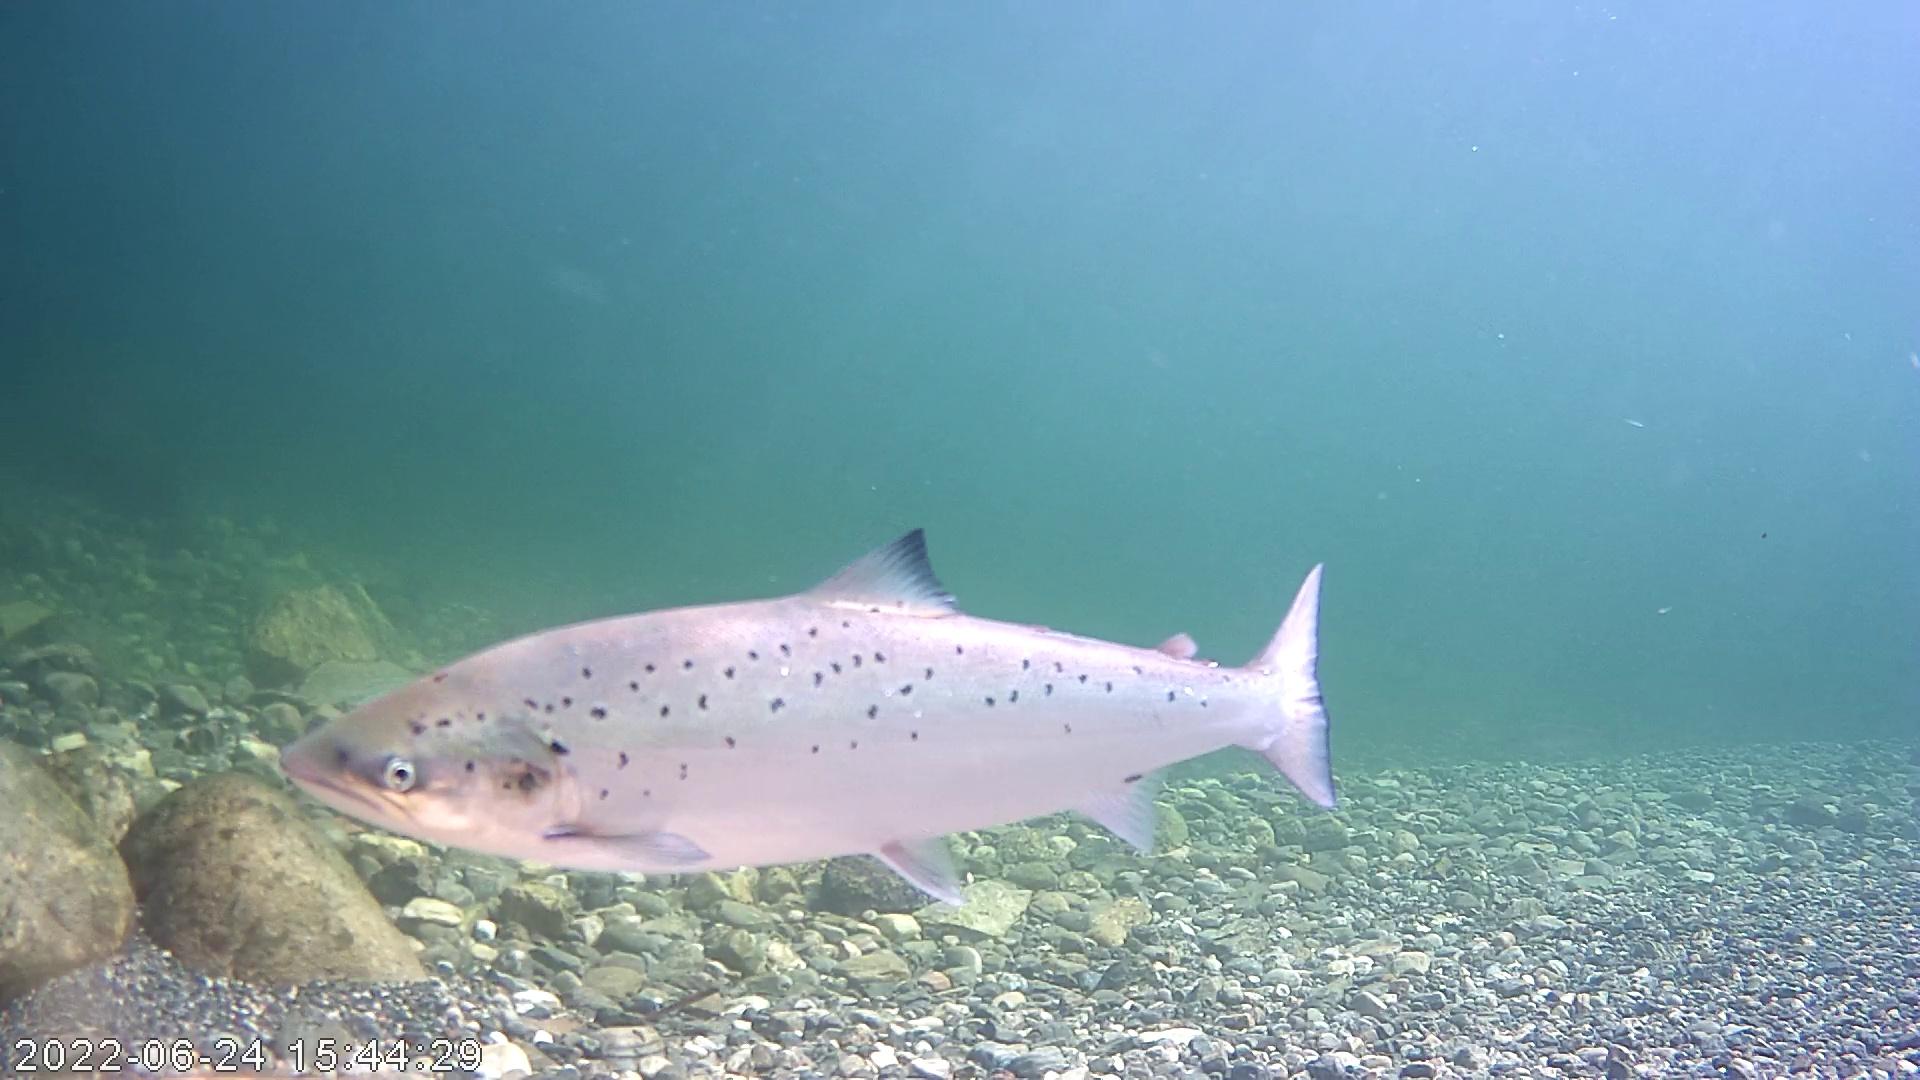salmon: (276, 526, 1338, 905)
